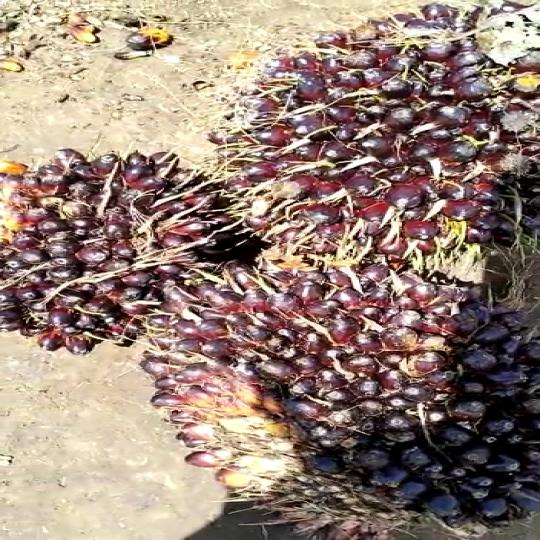mentah: (137, 246, 540, 532), (182, 1, 540, 262), (0, 140, 244, 354)
